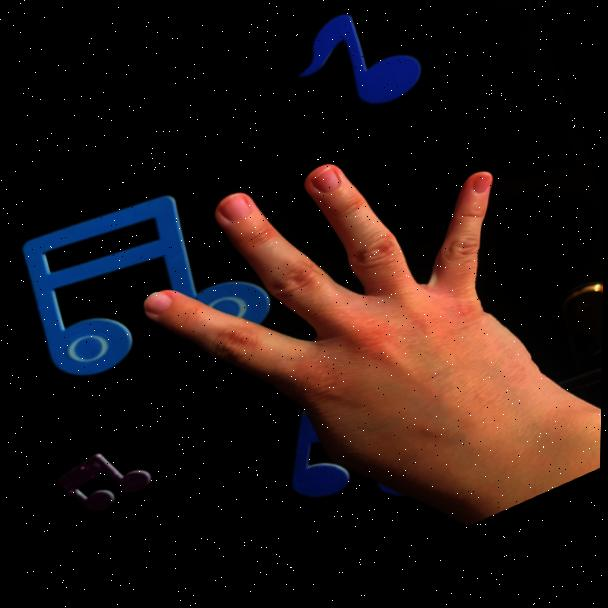four: (103, 88, 588, 588)
